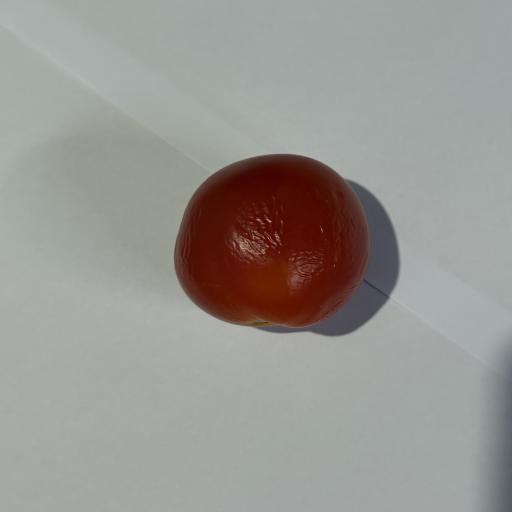spoiled: (174, 154, 370, 327)
